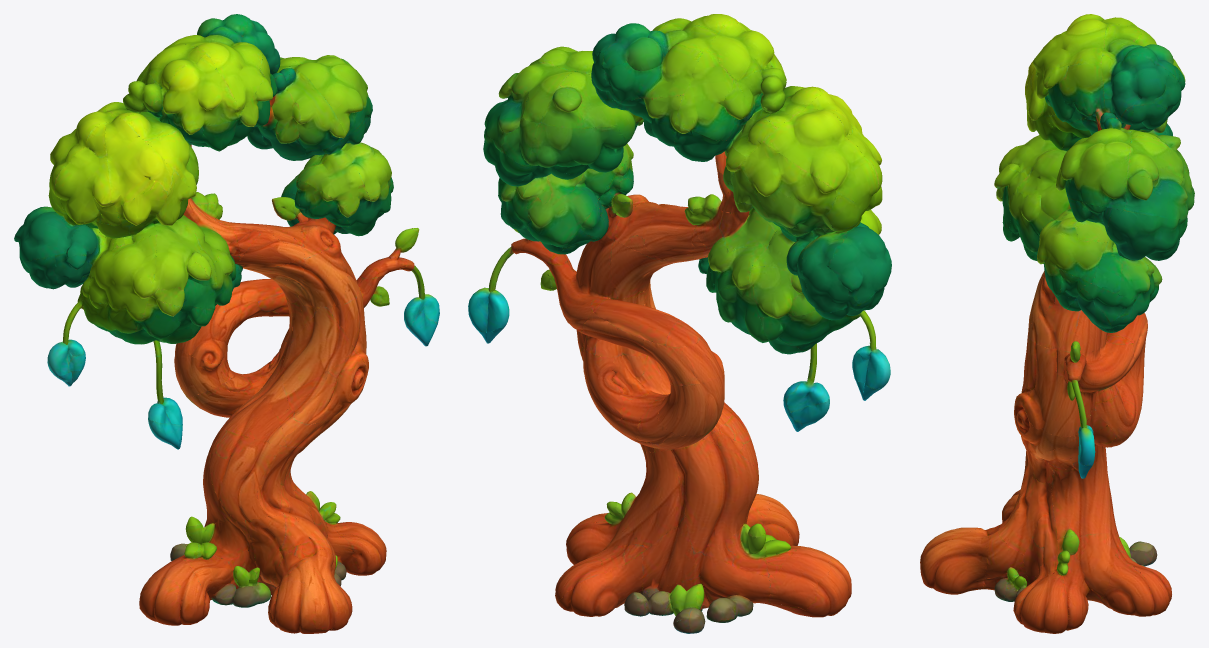
File: whimsywood-tree.glb
3 renders of one model, left to right at view 1: azimuth 30°, elevation 25°; view 2: azimuth 150°, elevation 25°; view 3: azimuth 270°, elevation 25°, orthographic. The views are drawn at different scales.
Parts seen in each view (by area): view 1: Mesh_0; view 2: Mesh_0; view 3: Mesh_0.
Boxes of the visible parts, x1,y1,x2,y2 form: Mesh_0: [14, 14, 439, 633]; Mesh_0: [468, 14, 891, 633]; Mesh_0: [920, 14, 1194, 633].
Size of the model in its own units: 1.47 by 1.9 by 0.878.
1 material, 1 textured.
